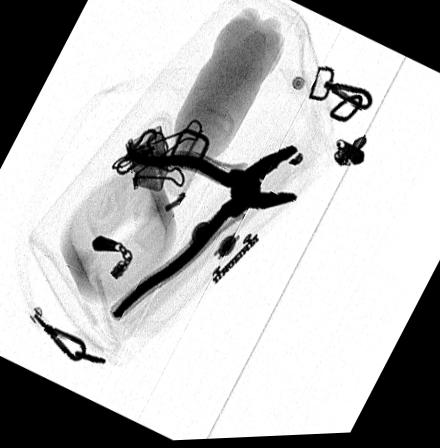Pliers: (112, 143, 300, 323)
